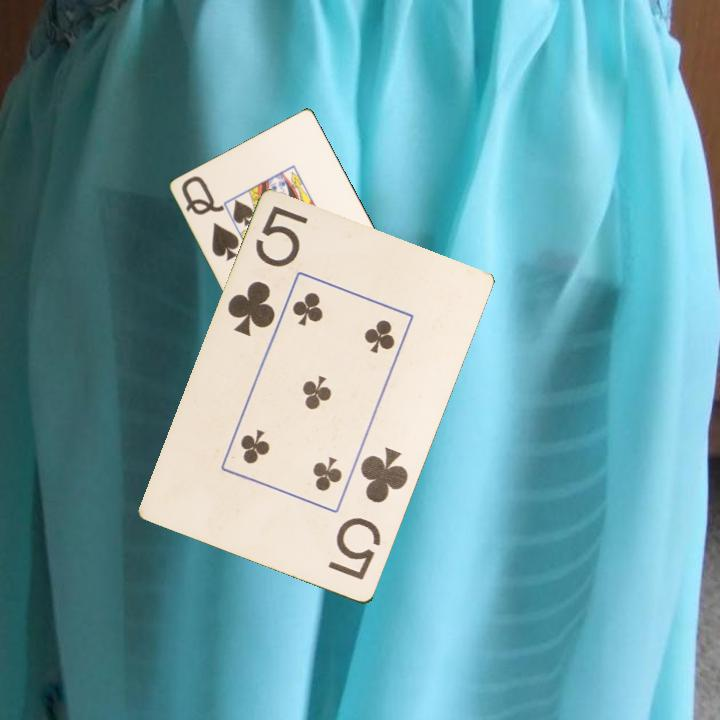5c: (325, 443, 412, 584), (224, 203, 312, 340)
Qs: (178, 172, 243, 264)
